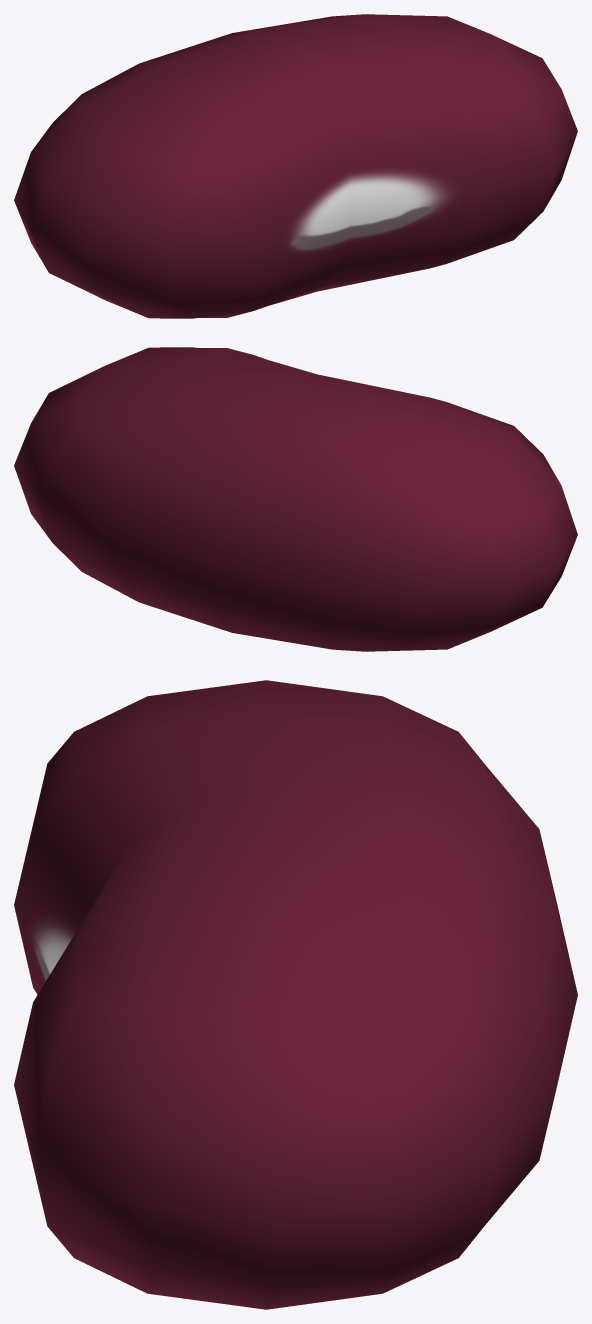
File: LV1_KidneyBeen.fbx
The picture shows the model from 3 angles, top to bottom: view 1: azimuth 30°, elevation 25°; view 2: azimuth 150°, elevation 25°; view 3: azimuth 270°, elevation 25°; orthographic projection. The views are drawn at different scales.
Visible parts, largest first — view 1: Level1; view 2: Level1; view 3: Level1.
Part boxes in pixels (x1,y1,x2,y2): Level1: (14, 14, 577, 318); Level1: (14, 347, 577, 651); Level1: (14, 680, 577, 1309).
Bounding box in the file's own units: 247 × 105 × 130.
Materials: 1 (1 with a texture image).
